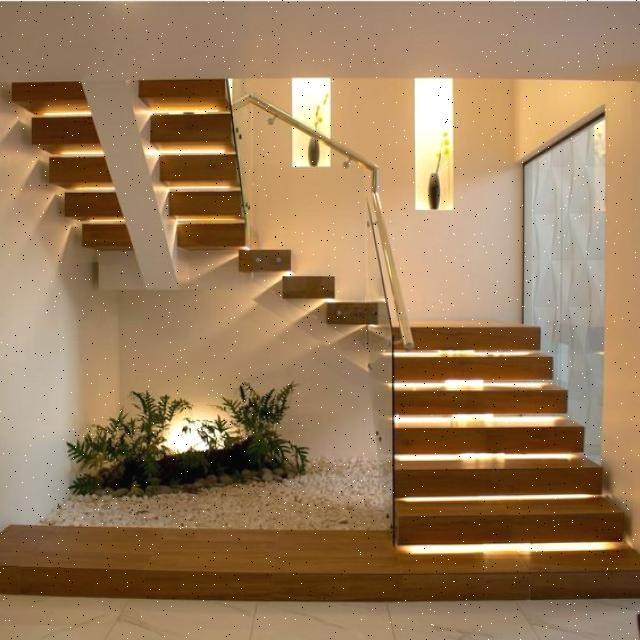stairs: (390, 324, 631, 550), (138, 78, 246, 252)
